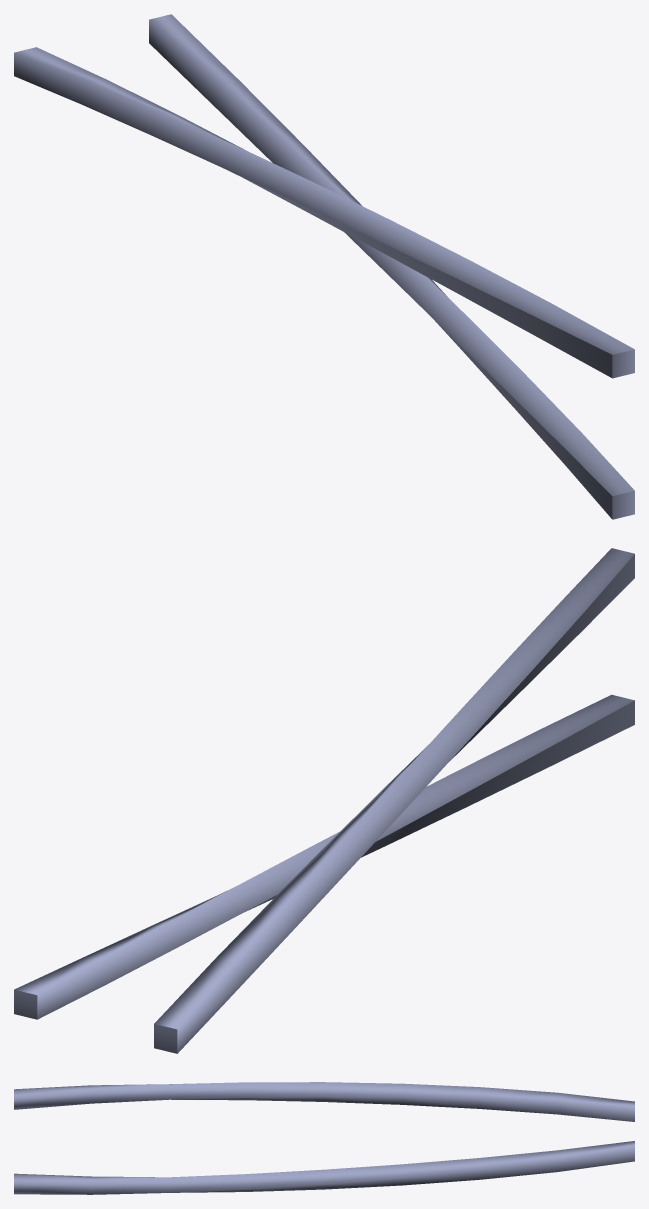
File: railroad-rail-straight-skew-left-side.glb
3 views of the same model, one above another, from view 1: azimuth 30°, elevation 25°; view 2: azimuth 150°, elevation 25°; view 3: azimuth 270°, elevation 25° (orthographic). The views are drawn at different scales.
Parts seen in each view (by area): view 1: railroad-rail-straight-skew-left-side; view 2: railroad-rail-straight-skew-left-side; view 3: railroad-rail-straight-skew-left-side.
Part boxes in pixels (x1,y1,x2,y2): railroad-rail-straight-skew-left-side: [14, 14, 634, 519]; railroad-rail-straight-skew-left-side: [14, 548, 634, 1053]; railroad-rail-straight-skew-left-side: [14, 1082, 634, 1194].
Size of the model in its own units: 0.7136 by 0.7136 by 4.
